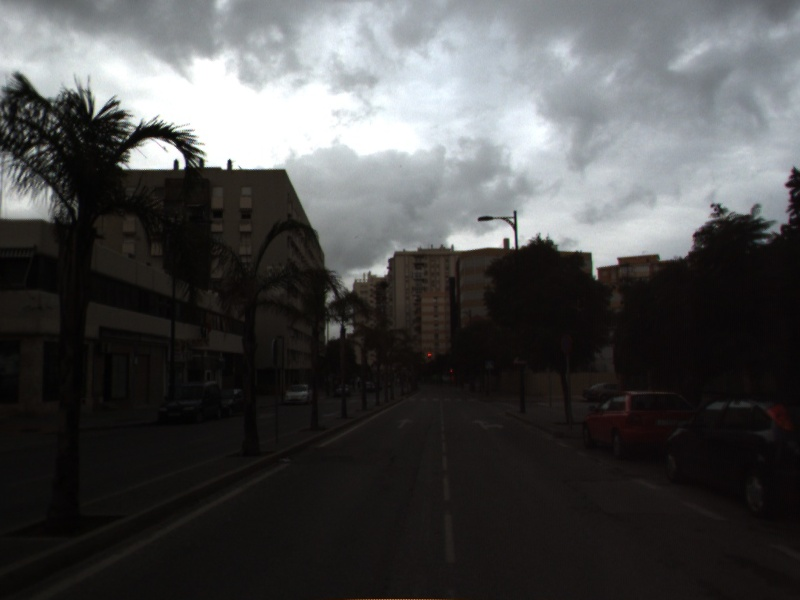STRAIGHT: (395, 417, 415, 430)
STRAIGHT_RIGHT: (470, 417, 506, 431)
